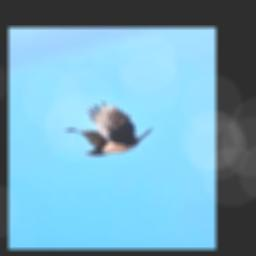Crow: (63, 102, 153, 156)
